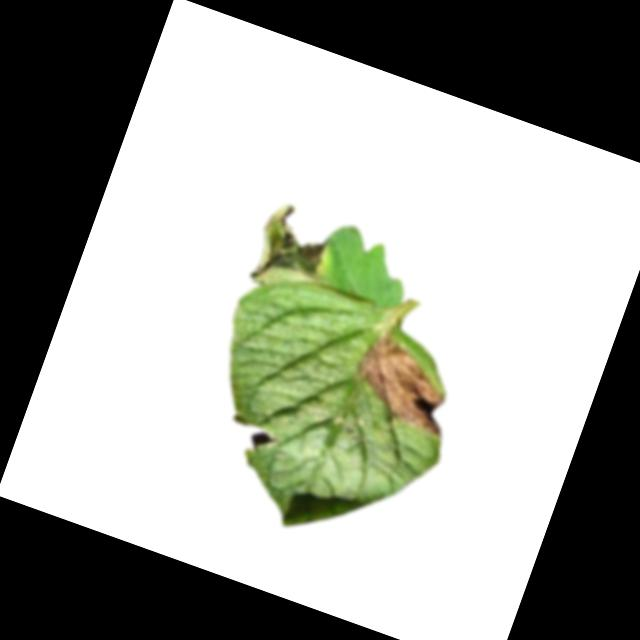Late_blight: (344, 324, 472, 440), (244, 200, 341, 304)
